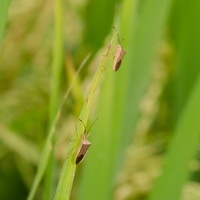insect: (75, 117, 97, 164), (113, 26, 125, 70)
